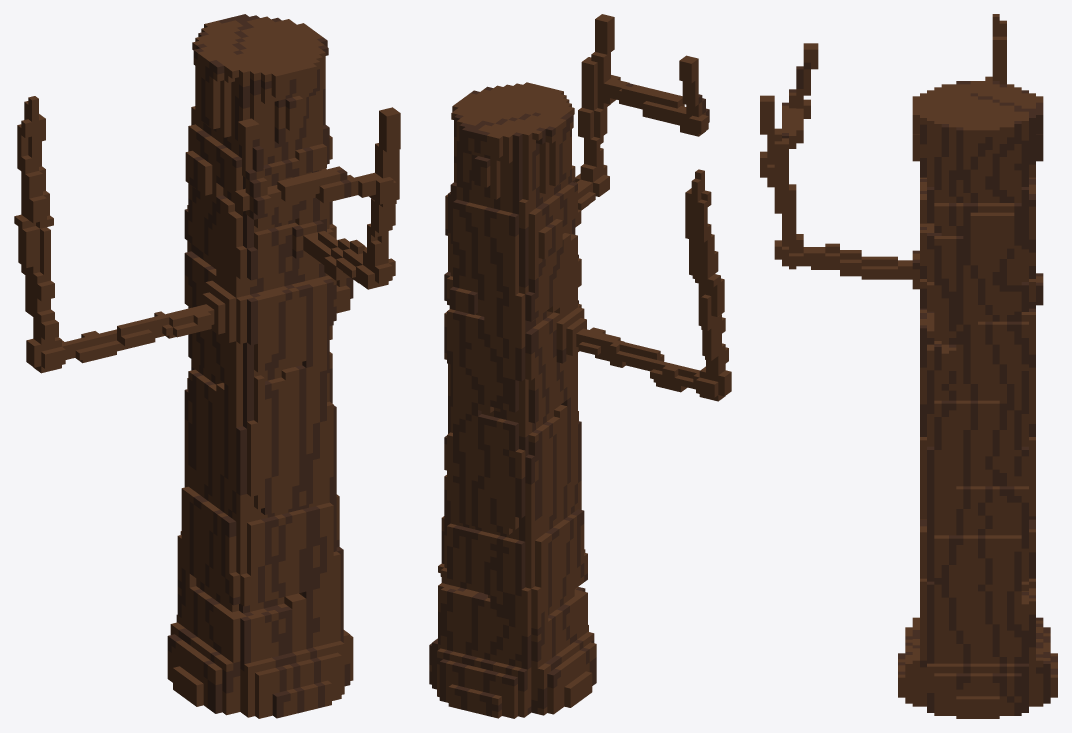
File: trunk_6.glb
The picture shows the model from 3 angles, left to right: view 1: azimuth 30°, elevation 25°; view 2: azimuth 150°, elevation 25°; view 3: azimuth 270°, elevation 25°; orthographic projection. The views are drawn at different scales.
Visible parts, largest first — view 1: trunk_6; view 2: trunk_6; view 3: trunk_6.
Boxes of the visible parts, x1=… form: trunk_6: x1=14, y1=14, x2=400, y2=718; trunk_6: x1=429, y1=14, x2=731, y2=718; trunk_6: x1=760, y1=14, x2=1057, y2=718.
Bounding box in the file's own units: 4.5 × 9 × 4.1.
1 material, 1 textured.
